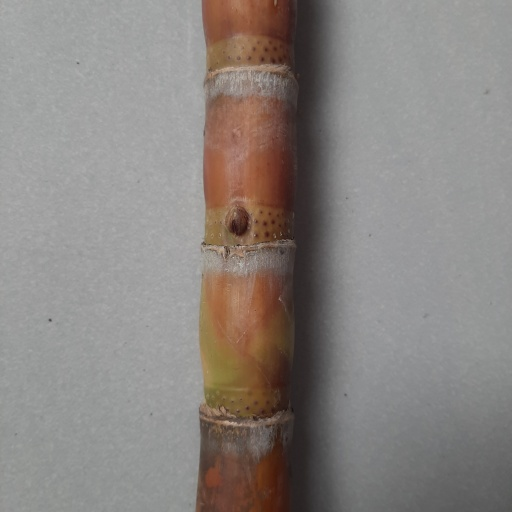Bud: (223, 206, 251, 239)
